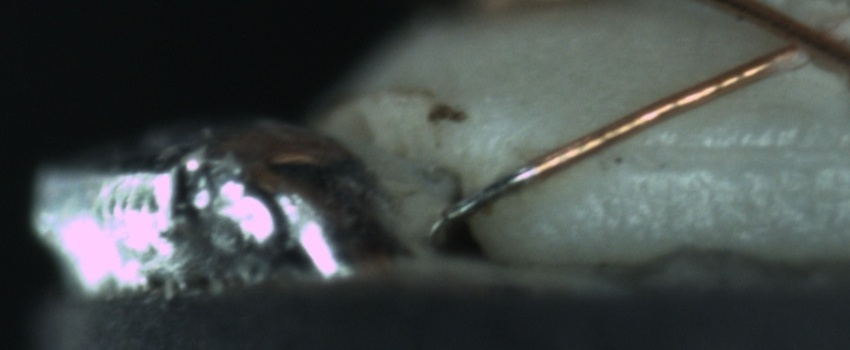CL: (757, 6, 844, 67)
DL: (616, 115, 842, 190)
TS: (434, 163, 537, 229)
